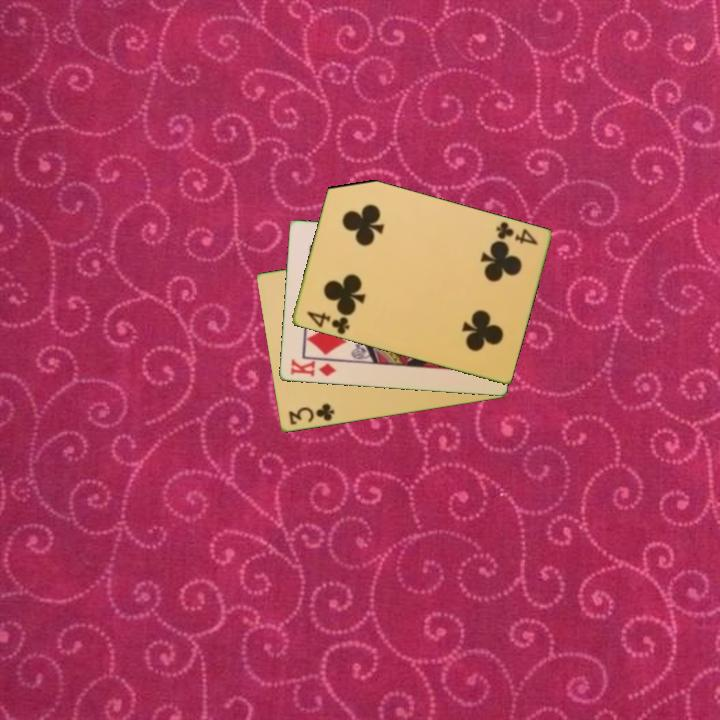3c: (285, 400, 337, 428)
4c: (492, 218, 541, 248), (303, 308, 352, 337)
Kd: (287, 356, 339, 380)
